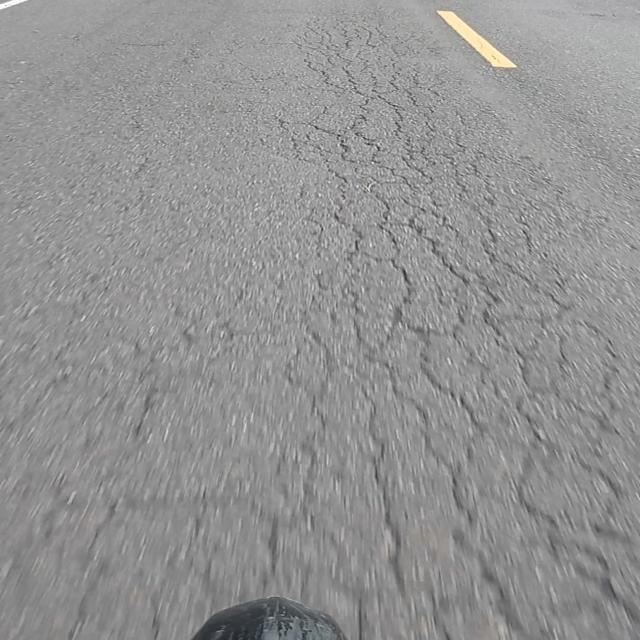Retak Buaya: (278, 0, 640, 640)
